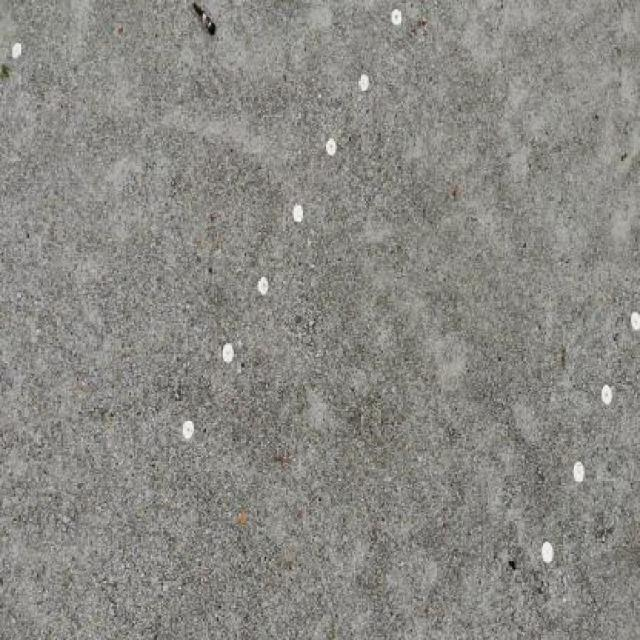Garbage: (192, 1, 216, 38)
